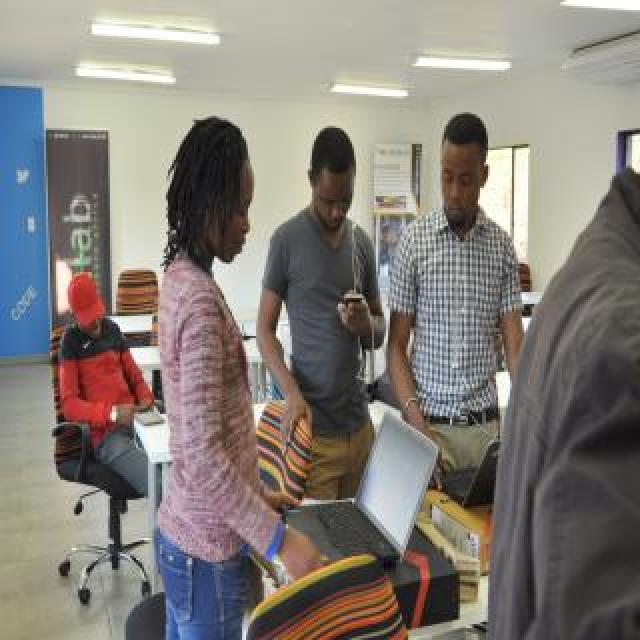laptop_computer: (285, 415, 444, 580)
